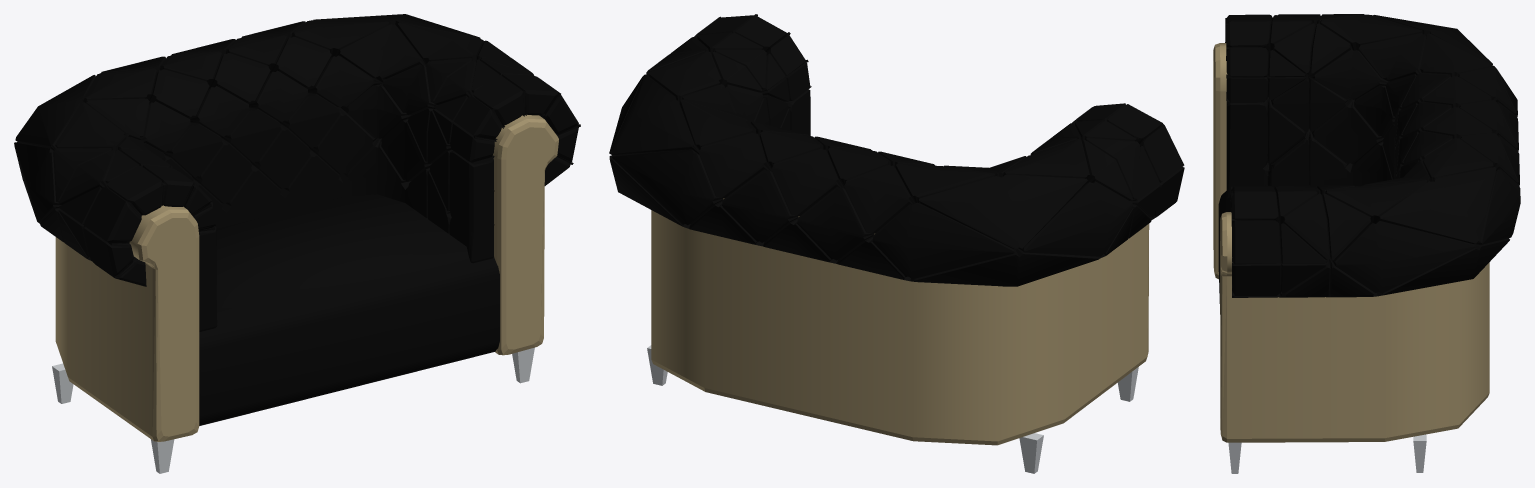
The model's file is Chair.FBX.
3 views of the same model, side by side, from view 1: azimuth 30°, elevation 25°; view 2: azimuth 150°, elevation 25°; view 3: azimuth 270°, elevation 25° (orthographic). The views are drawn at different scales.
Parts seen in each view (by area): view 1: Line02, ChamferBox01, Line03, Box04, Box01, Box02; view 2: Line02, Line03, Box04; view 3: Line02, Line03, ChamferBox01, Box03, Box02.
Boxes of the visible parts, box(x1,y1,x2,y2) form: Line02: box(14, 14, 580, 331); ChamferBox01: box(199, 194, 499, 425); Line03: box(55, 115, 558, 441); Box04: box(52, 363, 73, 403); Box01: box(151, 439, 174, 473); Box02: box(512, 347, 534, 383); Line02: box(609, 14, 1184, 286); Line03: box(651, 198, 1149, 445); Box04: box(1019, 433, 1043, 473); Line02: box(1225, 14, 1520, 297); Line03: box(1213, 43, 1489, 442); ChamferBox01: box(1218, 185, 1317, 314); Box03: box(1413, 434, 1426, 472); Box02: box(1228, 442, 1241, 473).
Bounding box in the file's own units: 97.95 × 57.03 × 56.66.
